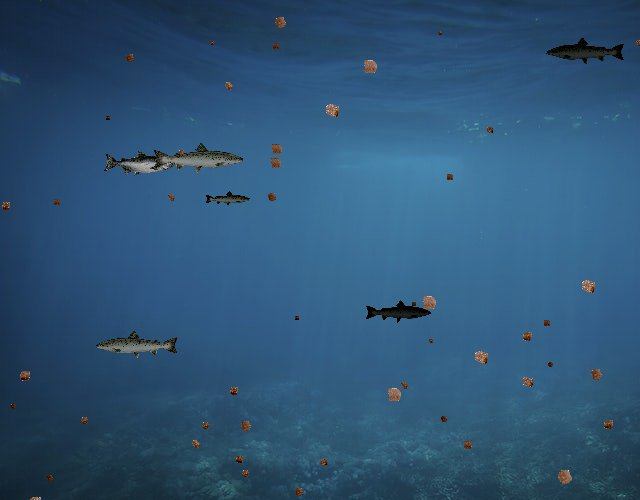Fish: (152, 141, 246, 175), (94, 329, 180, 360), (545, 36, 626, 65), (104, 151, 177, 177), (365, 300, 433, 324), (205, 191, 252, 208)
Pellet: (76, 412, 92, 428), (482, 123, 497, 137), (544, 358, 557, 371), (206, 38, 216, 48)
